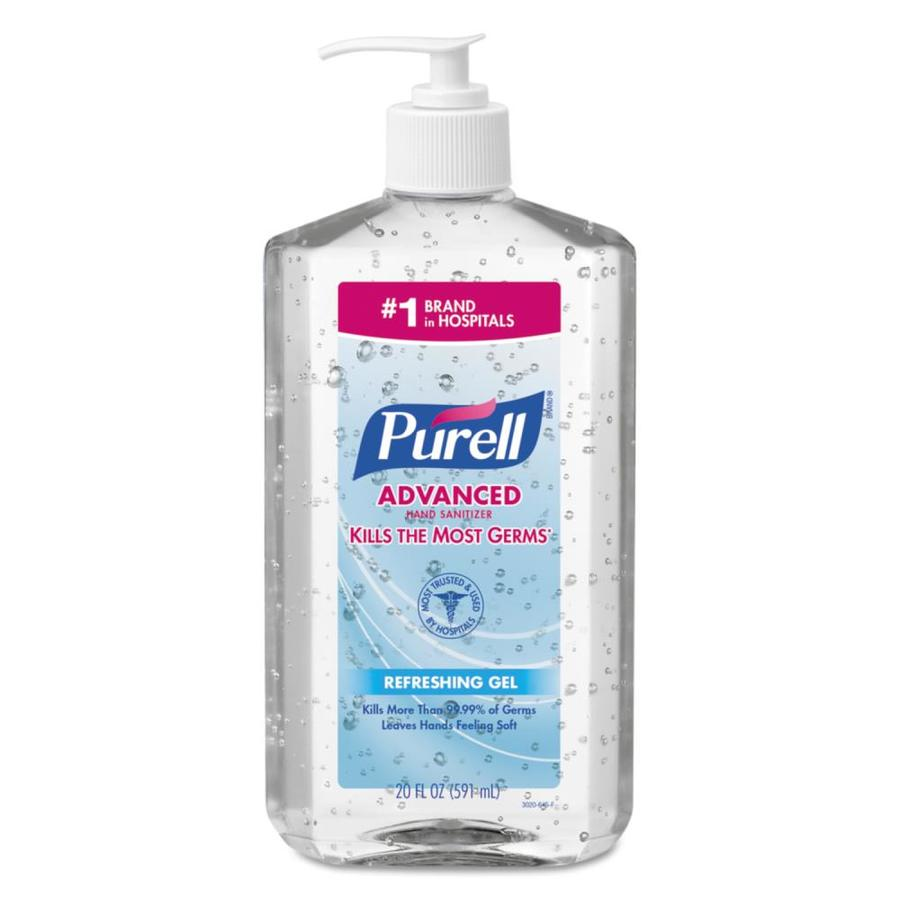Sanitizer: (255, 22, 641, 875)
